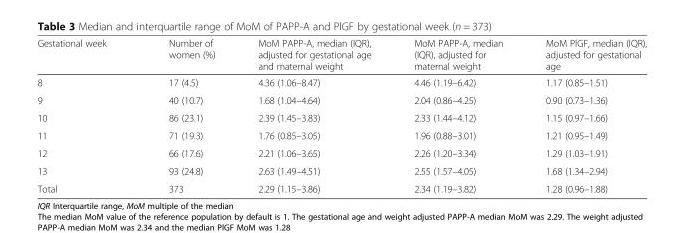table: (36, 37, 646, 193)
table column: (236, 37, 391, 193), (391, 37, 523, 193), (523, 37, 646, 193), (36, 37, 136, 193), (136, 37, 236, 193)
table column header: (36, 37, 646, 73)
table row: (36, 37, 646, 73), (36, 73, 646, 91), (36, 108, 646, 126), (36, 126, 646, 144), (36, 161, 646, 179), (36, 91, 646, 108), (36, 144, 646, 161), (36, 179, 646, 193)
